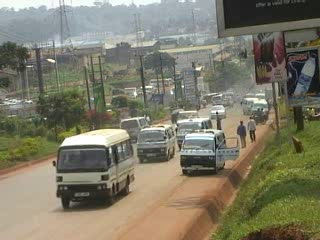Car: (208, 104, 226, 119)
Motorcycle: (252, 114, 266, 125)
